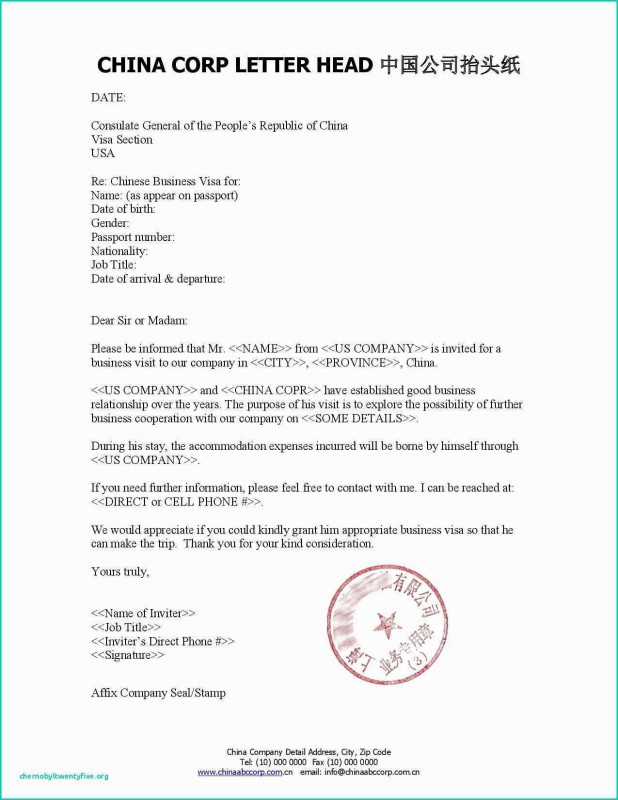Round chop: (324, 560, 453, 685)
